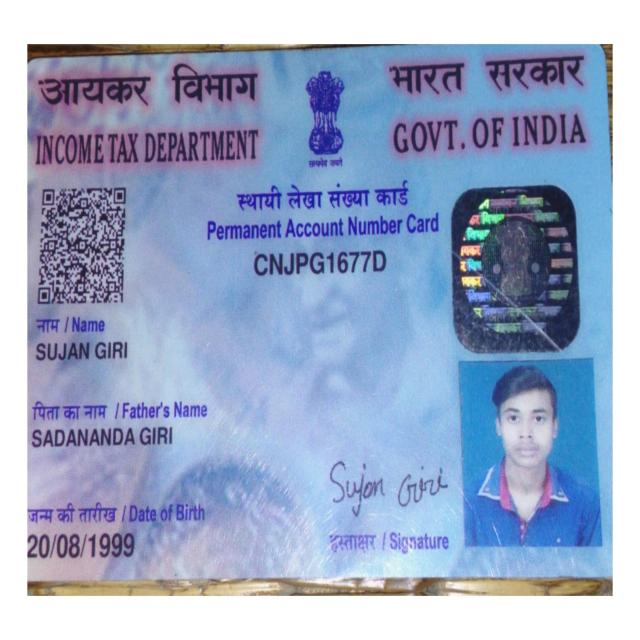pan_card: (27, 45, 611, 581)
